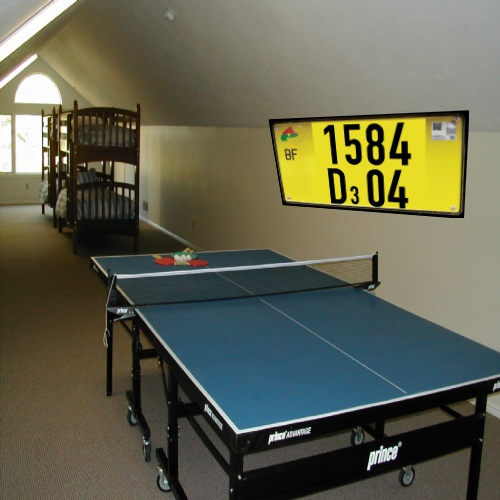plate: (256, 105, 475, 227)
